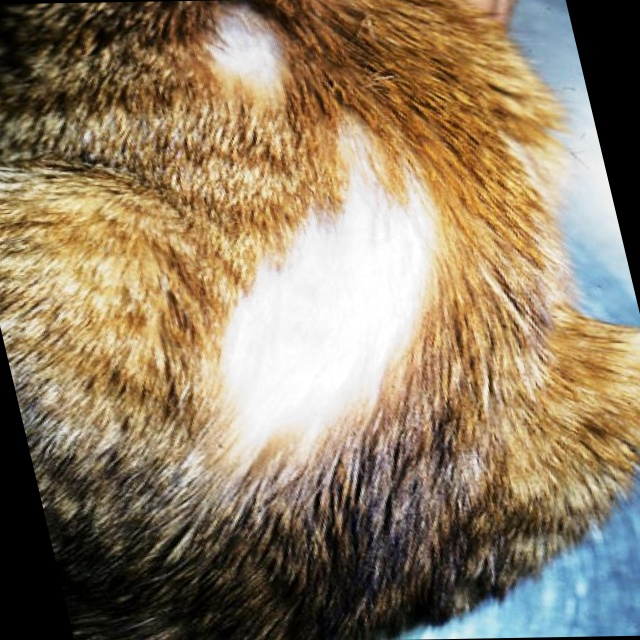hairloss: (166, 168, 474, 437), (212, 10, 284, 69)
